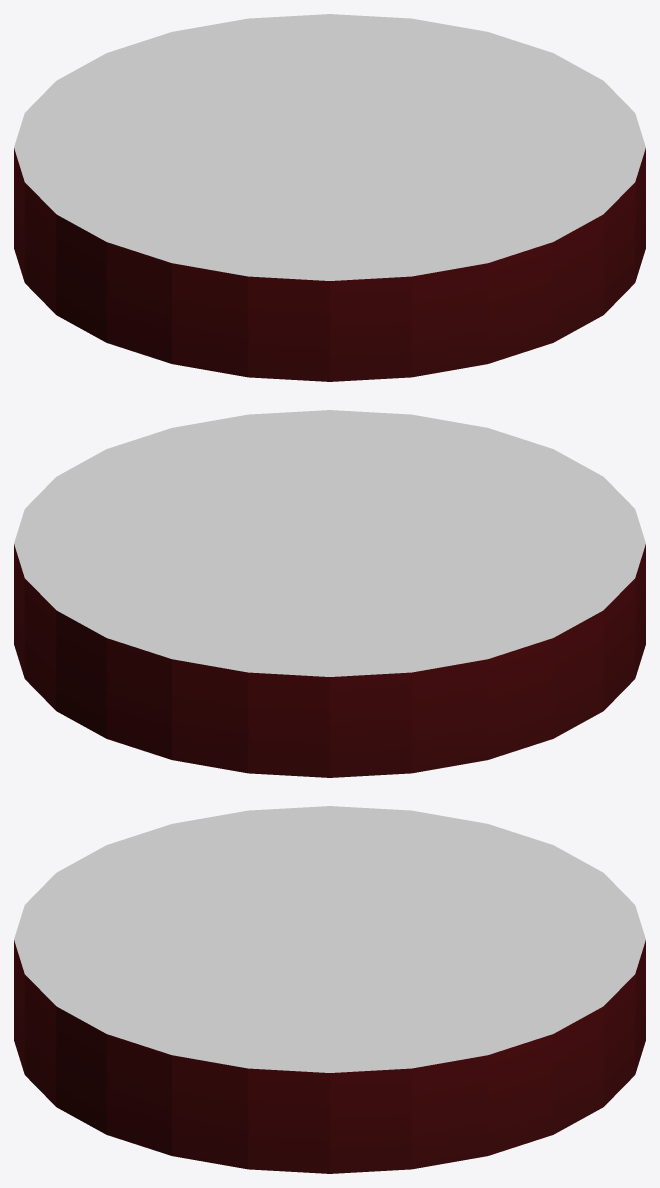
Rendered from LightningMcQueenWheel.fbx.
The picture shows the model from 3 angles, top to bottom: view 1: azimuth 30°, elevation 25°; view 2: azimuth 150°, elevation 25°; view 3: azimuth 270°, elevation 25°; orthographic projection.
Parts seen in each view (by area): view 1: JacksonStormWheel1; view 2: JacksonStormWheel1; view 3: JacksonStormWheel1.
Part boxes in pixels (bbox=[...]): JacksonStormWheel1: bbox=[14, 14, 645, 381]; JacksonStormWheel1: bbox=[14, 410, 645, 777]; JacksonStormWheel1: bbox=[14, 806, 645, 1173].
Size of the model in its own units: 111 by 19.62 by 111.
